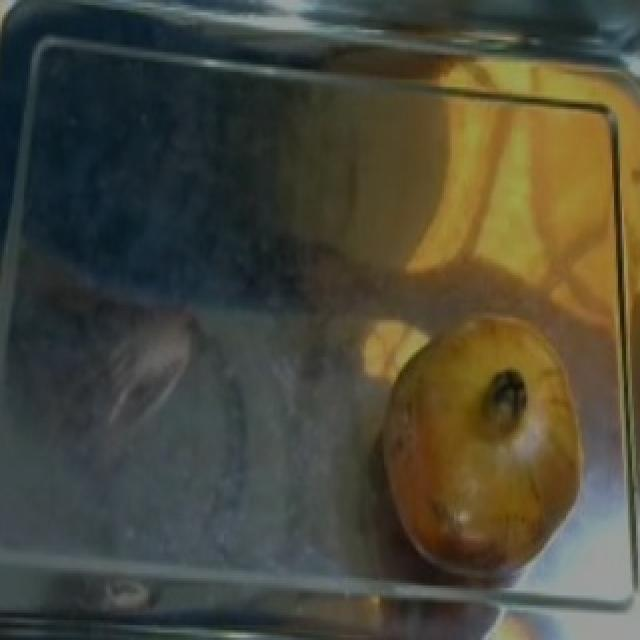fruit: (362, 298, 598, 595)
